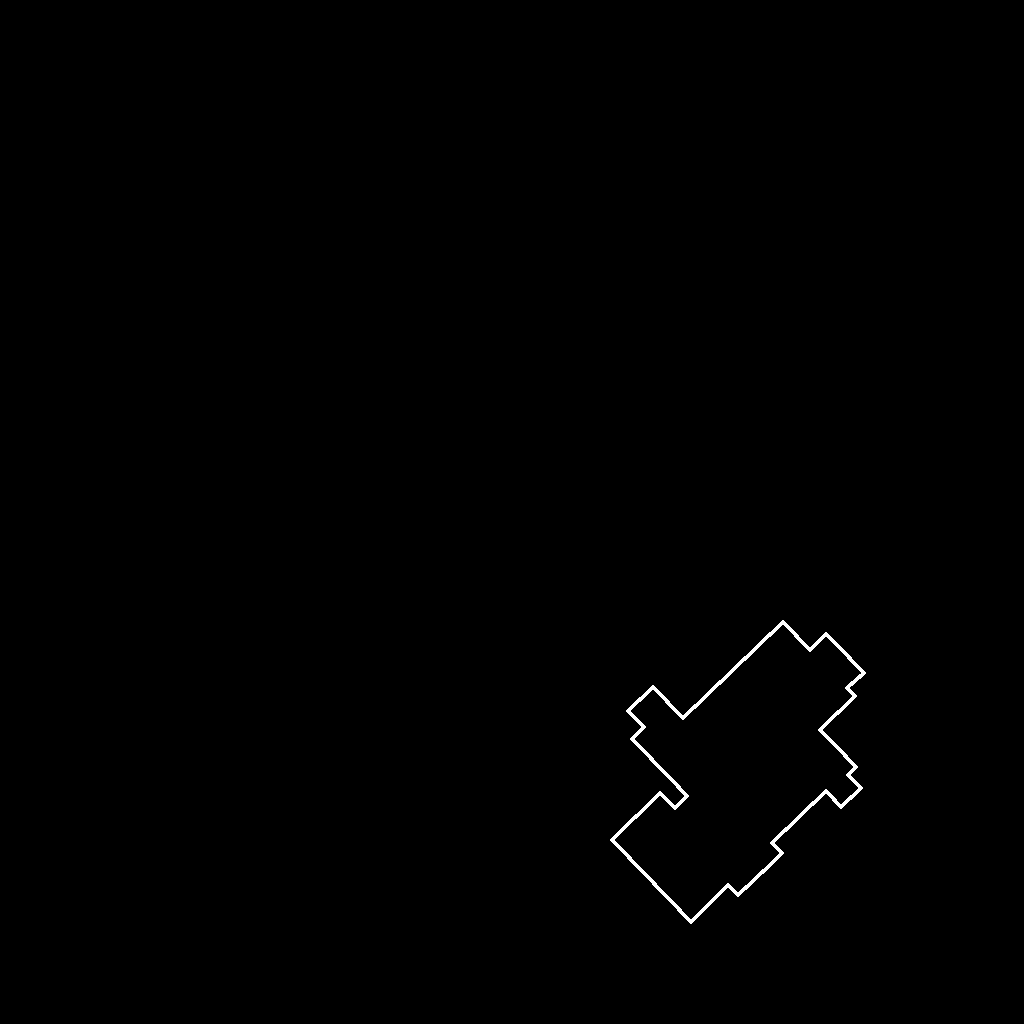building: (612, 622, 865, 923)
